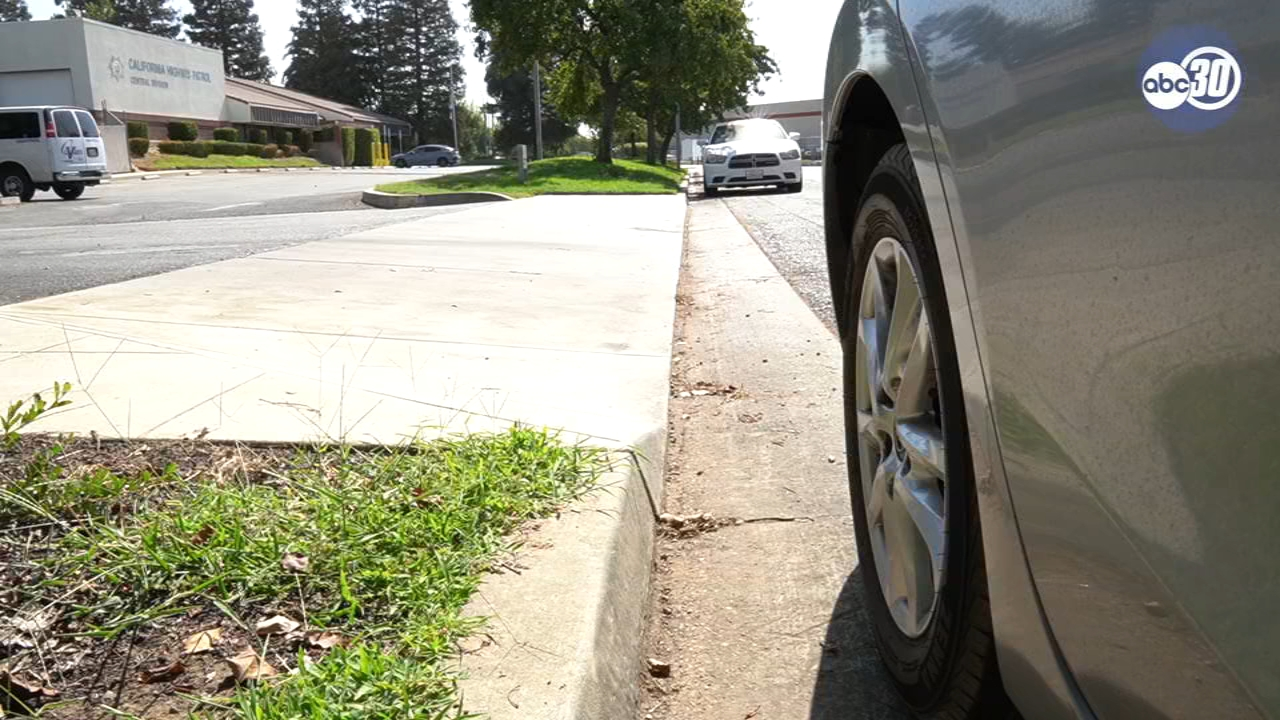Car: (700, 114, 809, 203), (383, 137, 462, 168)
